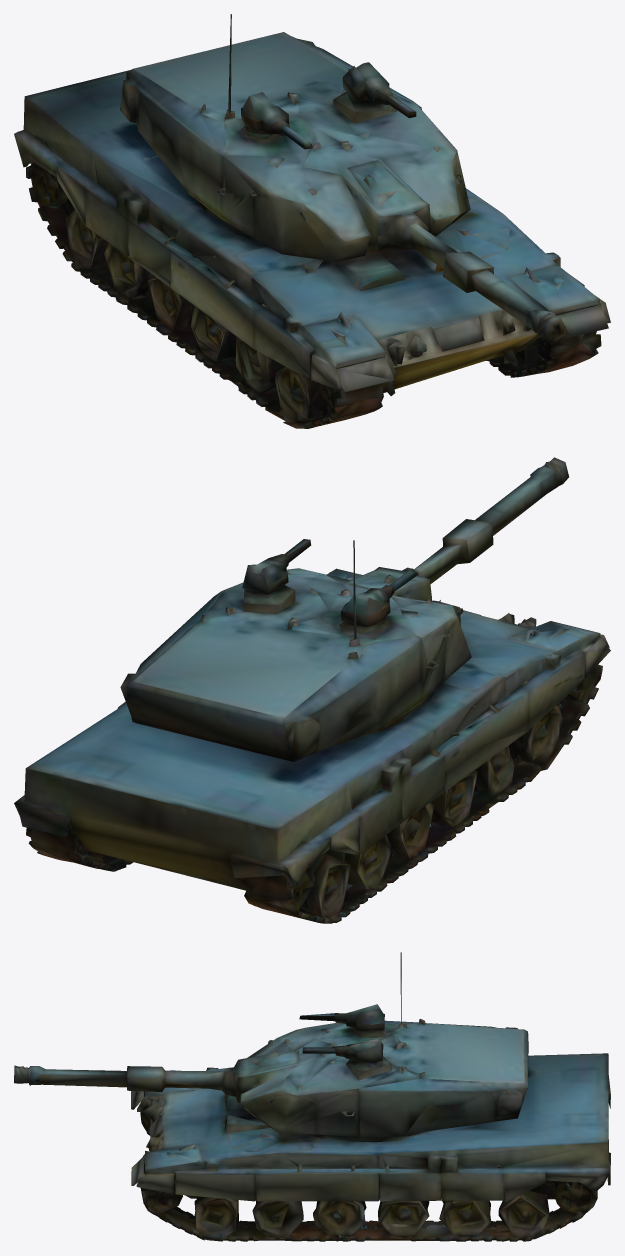
File: tank3_opt.glb
3 views of the same model, one above another, from view 1: azimuth 30°, elevation 25°; view 2: azimuth 150°, elevation 25°; view 3: azimuth 270°, elevation 25° (orthographic). The views are drawn at different scales.
Parts seen in each view (by area): view 1: node_0; view 2: node_0; view 3: node_0.
Part boxes in pixels (<box>): node_0: <box>14,14,610,428</box>; node_0: <box>14,457,610,923</box>; node_0: <box>14,952,610,1241</box>.
Bounding box in the file's own units: 0.4324 × 0.4542 × 1.11.
1 material, 1 textured.
